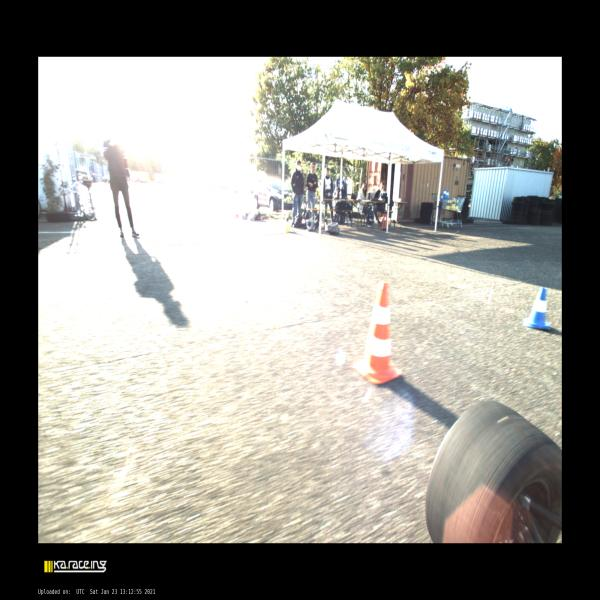blue_cone: (522, 286, 550, 331), (446, 189, 450, 199), (443, 188, 446, 197)
large_orange_cone: (352, 279, 402, 385)
yellow_cone: (284, 213, 290, 227), (445, 199, 450, 210), (451, 198, 456, 208), (455, 199, 459, 210)
